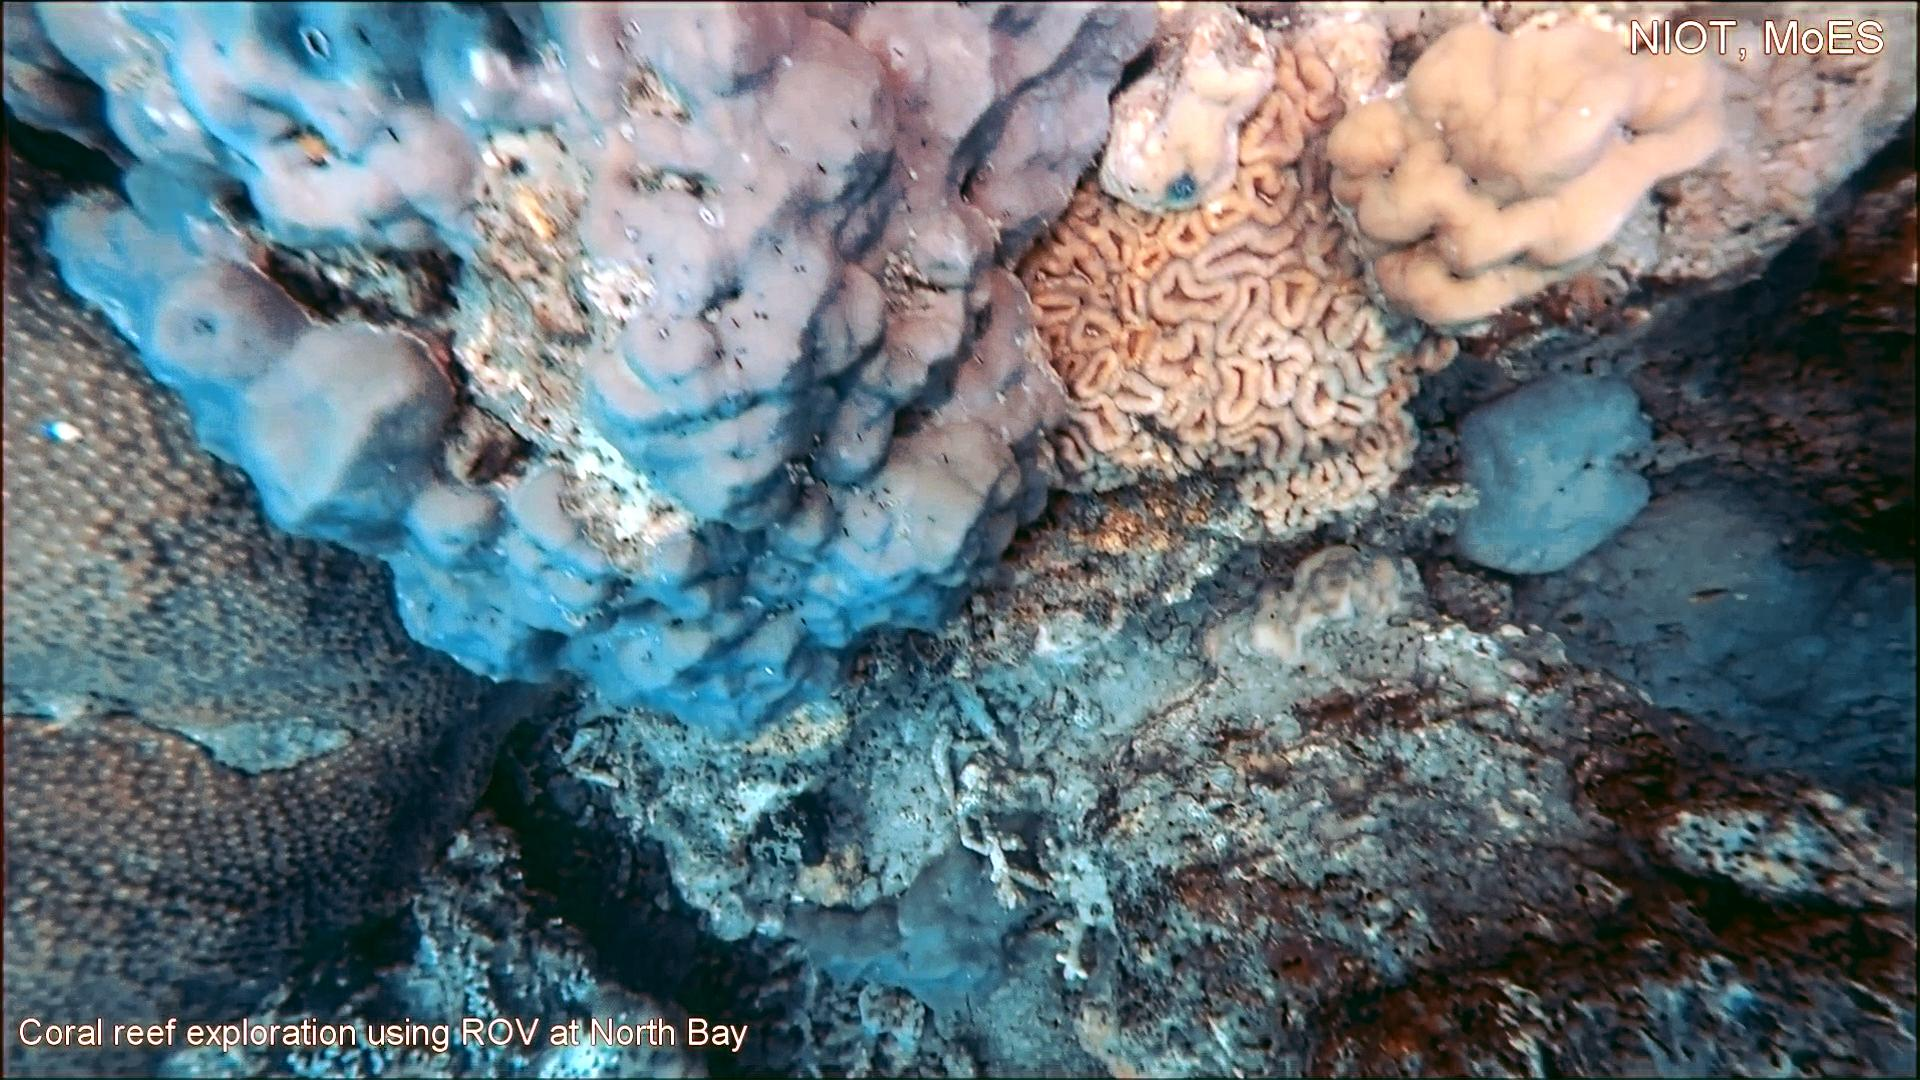Lobophyllia: (1007, 41, 1427, 551)
